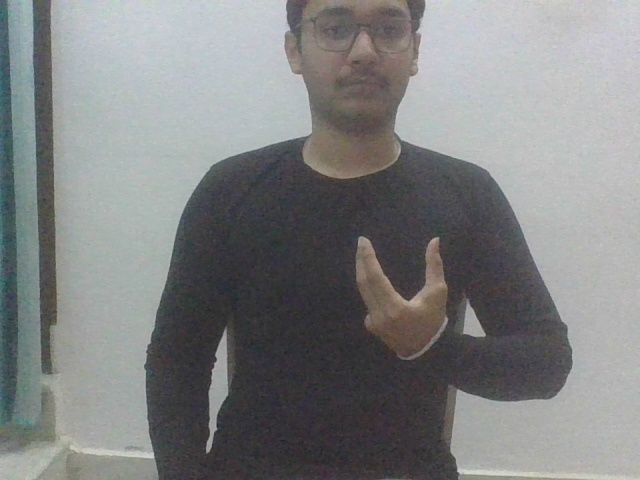U: (344, 229, 453, 363)
